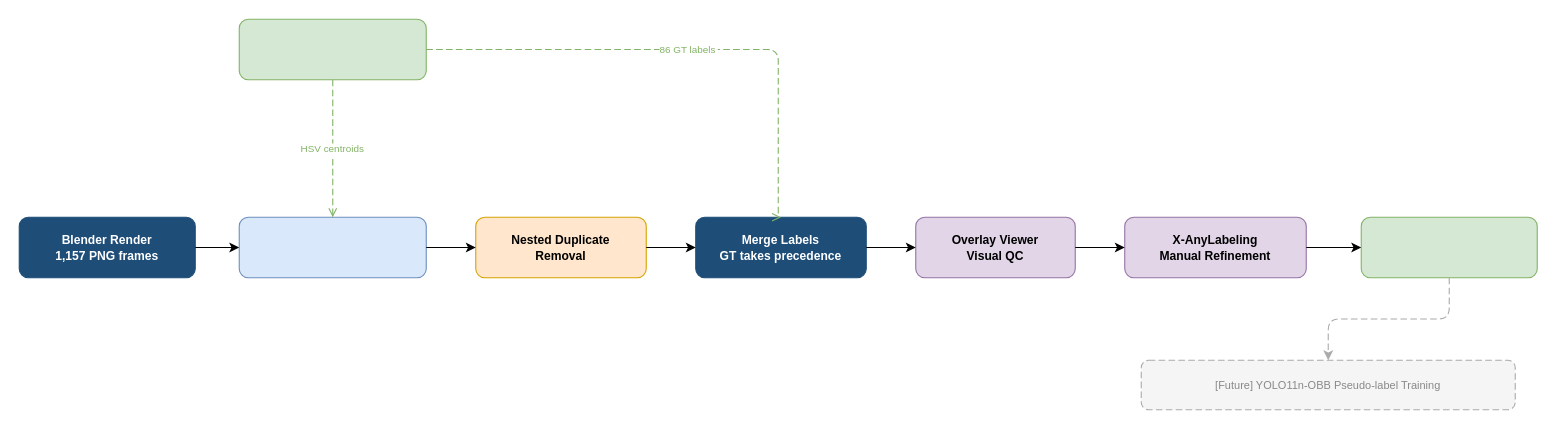
Some shapes in this 1557 by 429 pixel diagram are drawn without their labels. The box of each missing label's shape, as (x1, y1, x2, y2) in pixels:
Final Dataset 1,157 images + JSON: (1360, 216, 1537, 278)
Ground Truth Labels 86 frames · LabelMe: (238, 18, 426, 80)
Watershed Auto-Label 1,071 frames: (238, 216, 426, 278)
